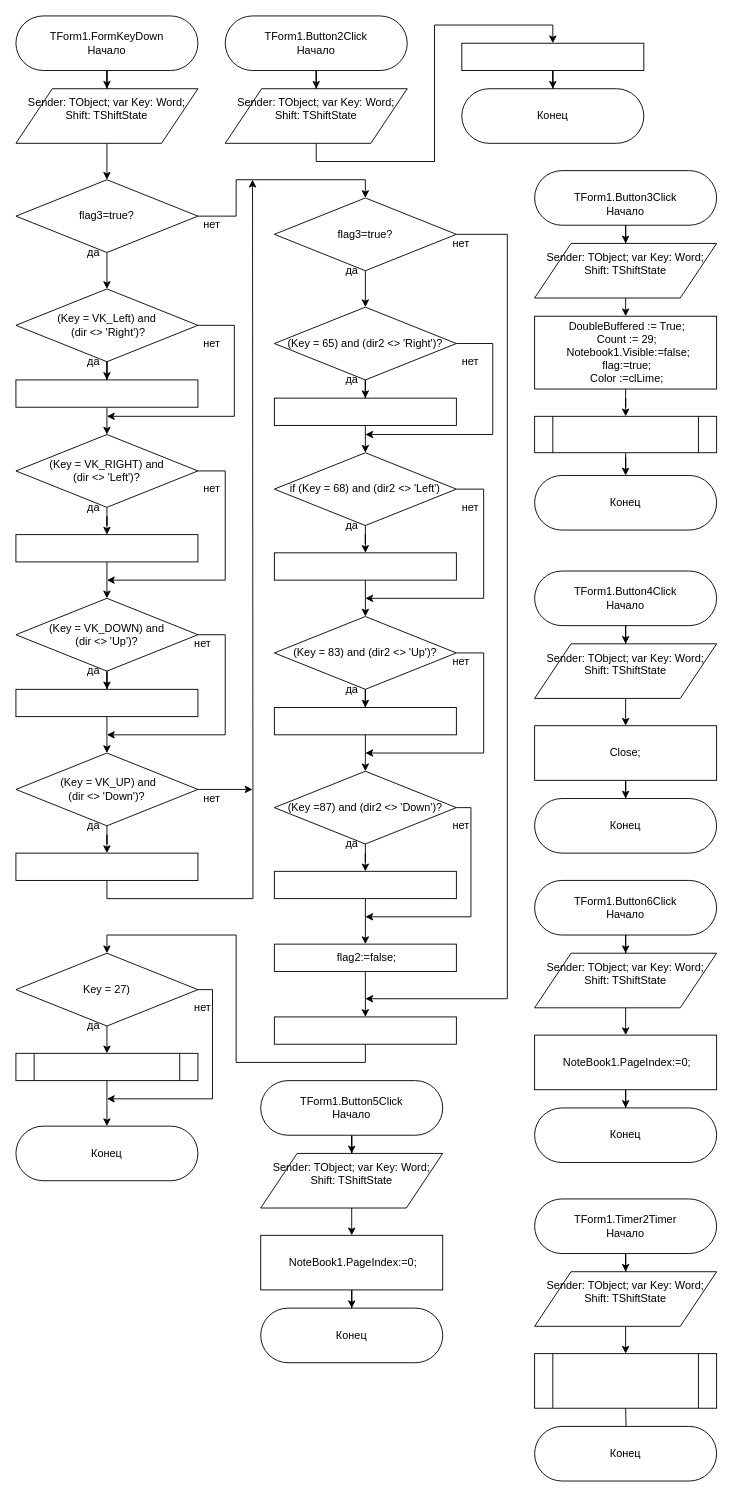
Some shapes in this 733 by 1497 pixel diagram are drawn without their labels. The shapes that lost their labels are listed below. From the top down, each one's centre as x and y in pixels, then its label:
point (552, 56): NoteBook1.PageIndex:=1;
point (106, 393): dir := 'Left'
point (364, 411): dir2 := 'Left'
point (625, 434): NewGame;
point (106, 548): dir := 'Right'
point (364, 566): dir2 := 'Right'
point (106, 702): dir := 'Down'
point (364, 721): dir2 := 'Down'
point (106, 866): dir := 'Up'
point (364, 884): dir2 := 'Up'
point (364, 1030): flag3:=false;
point (106, 1066): Pause
point (625, 1380): gameover
